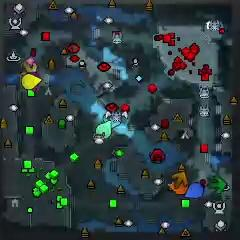p1: (185, 182, 204, 199)
p2: (95, 120, 112, 141)
p3: (25, 72, 41, 92)
p4: (21, 74, 42, 91)
p5: (168, 180, 188, 194)
x1: (25, 56, 35, 67)
x2: (20, 62, 38, 76)
x3: (101, 114, 122, 130)
x4: (209, 175, 226, 194)
x5: (172, 171, 187, 190)
